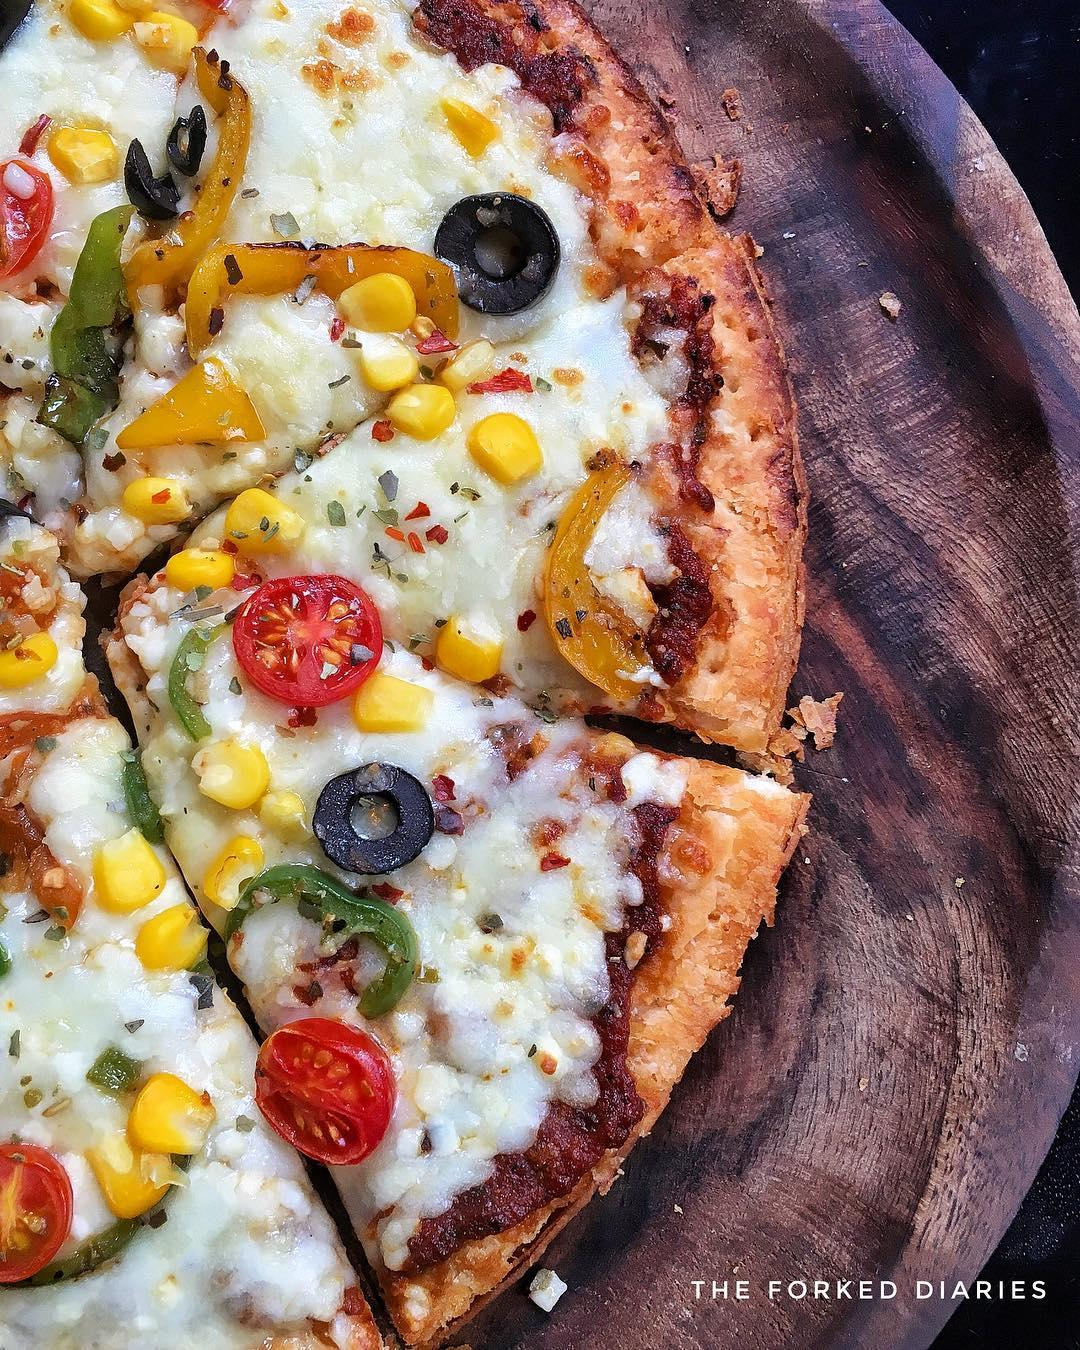Corn: (77, 1121, 174, 1225), (125, 1058, 219, 1159), (80, 827, 174, 920), (326, 271, 434, 344), (430, 601, 510, 694), (347, 662, 444, 736), (462, 407, 546, 492), (218, 487, 314, 561), (186, 735, 271, 818), (130, 899, 220, 975), (46, 117, 132, 187), (130, 1, 202, 77), (384, 375, 463, 443), (198, 831, 269, 906), (0, 618, 66, 695), (162, 532, 245, 590), (116, 471, 205, 523), (354, 326, 422, 392), (60, 0, 140, 53), (262, 785, 314, 836)
Olives: (430, 179, 564, 323), (306, 754, 440, 882), (112, 131, 185, 233), (160, 102, 214, 182)
Peppers: (170, 230, 473, 368), (526, 451, 670, 712), (216, 864, 436, 1022), (122, 41, 260, 291), (42, 197, 144, 447), (6, 1179, 190, 1294), (117, 354, 282, 455), (159, 605, 242, 747), (441, 336, 478, 436)
Pizza: (0, 0, 820, 1350)
Tomatoes: (233, 560, 397, 725), (247, 1008, 398, 1173), (0, 1132, 80, 1298), (0, 144, 60, 278)
